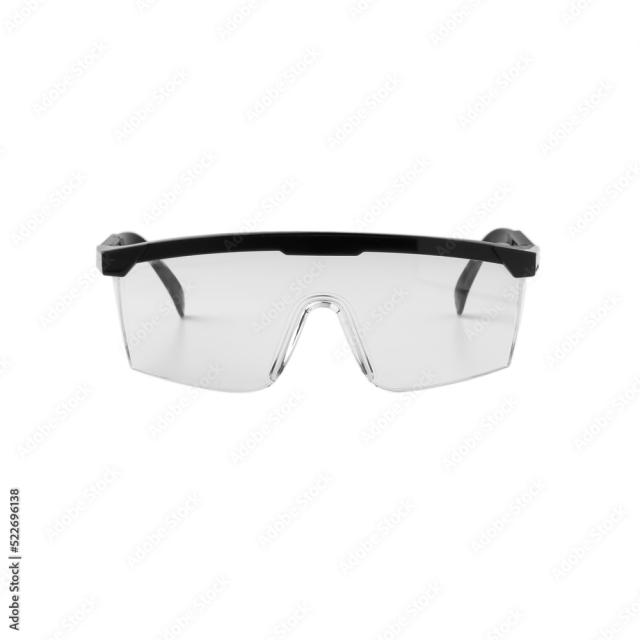Goggles: (82, 213, 548, 412)
